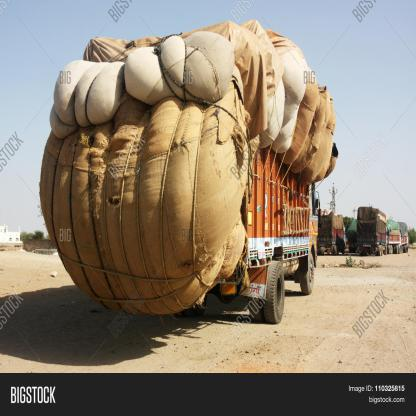overloaded-truck: (38, 32, 335, 322)
